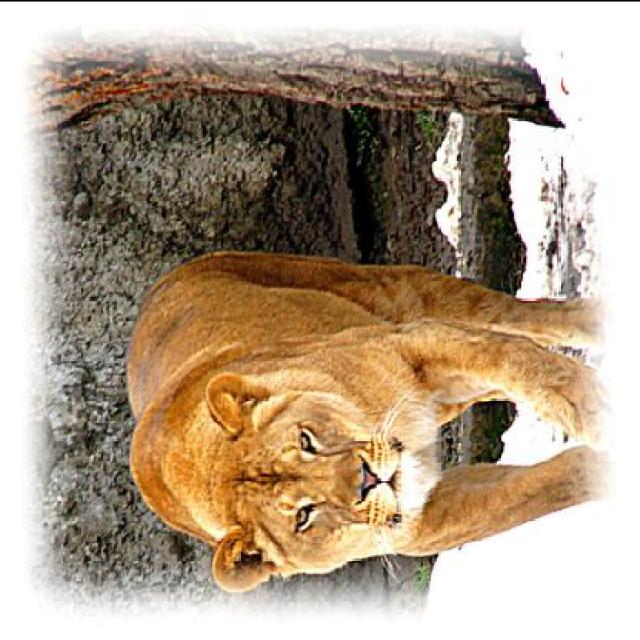Lion: (108, 224, 622, 590)
